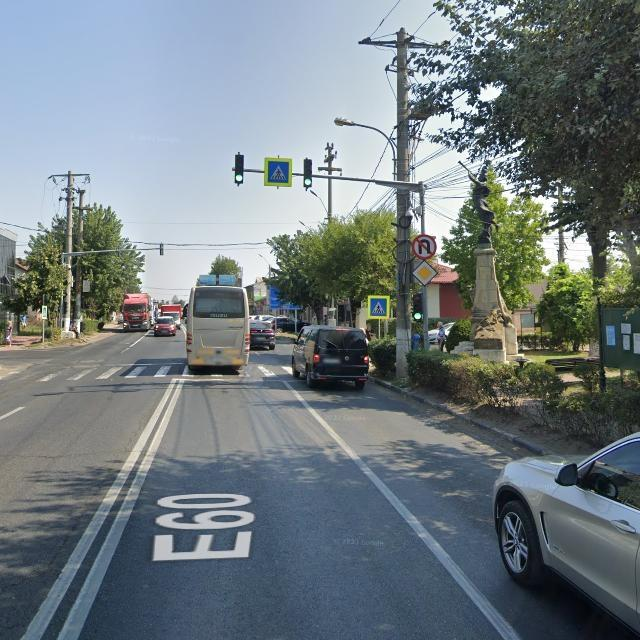info_crosswalk: (265, 157, 292, 186), (367, 295, 390, 319)
